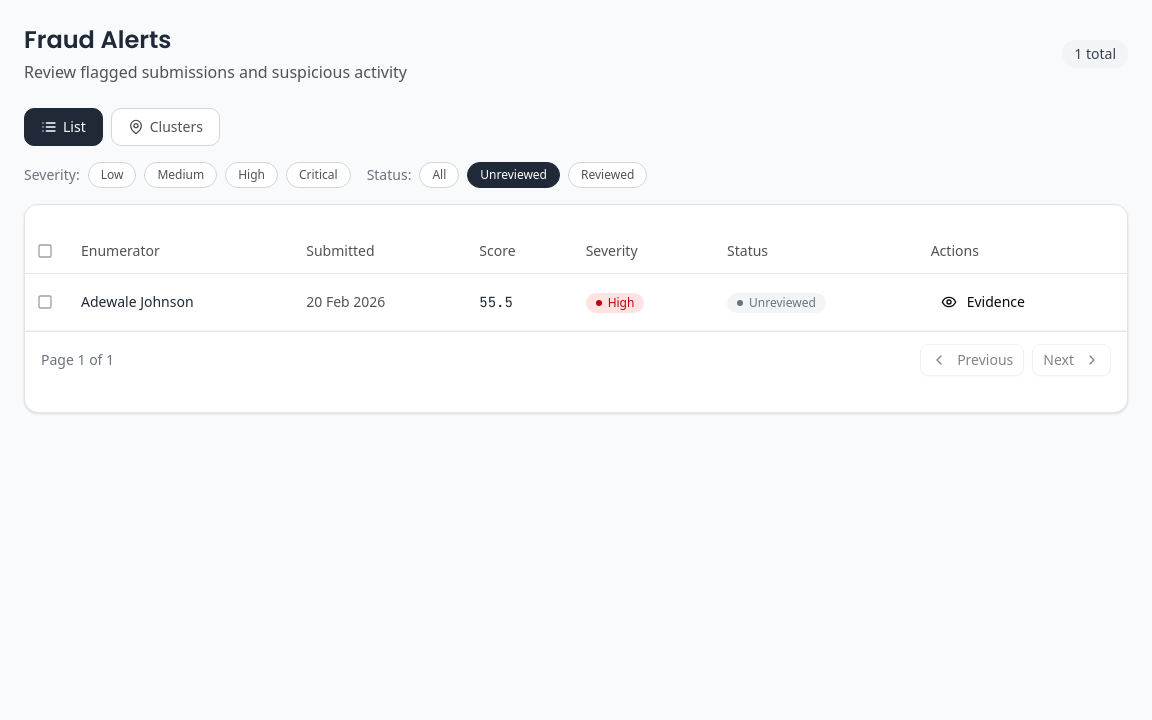
Test case: SupervisorFraudPage › AC4.4.7: Keyboard navigation › closes evidence panel when Escape is pressed (H1 fix)
This screenshot has width=1152, height=720.
Note: Open evidence panel
Click the button with aria-label "View evidence for Adewale Johnson" at {"x": 983, "y": 302}, box top-left (931, 286), bottom-right (1035, 318)
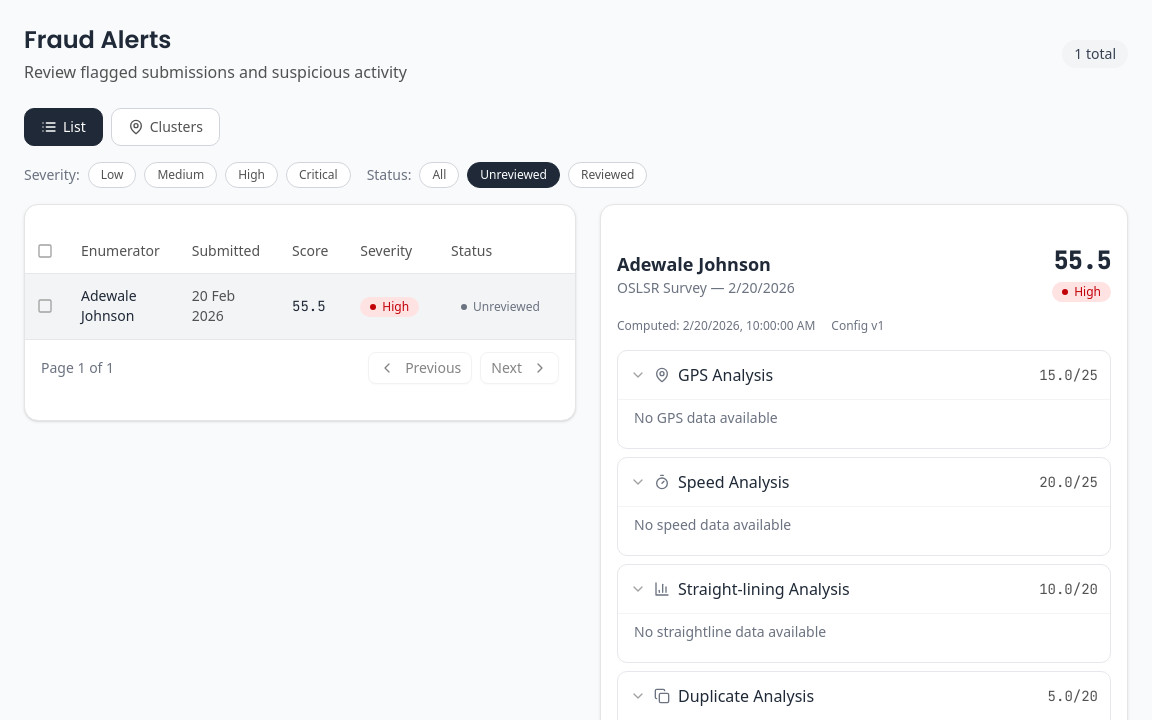
Result: the text "GPS Analysis" is shown at top-left (678, 363), bottom-right (773, 387)
Note: Press Escape
Press Escape
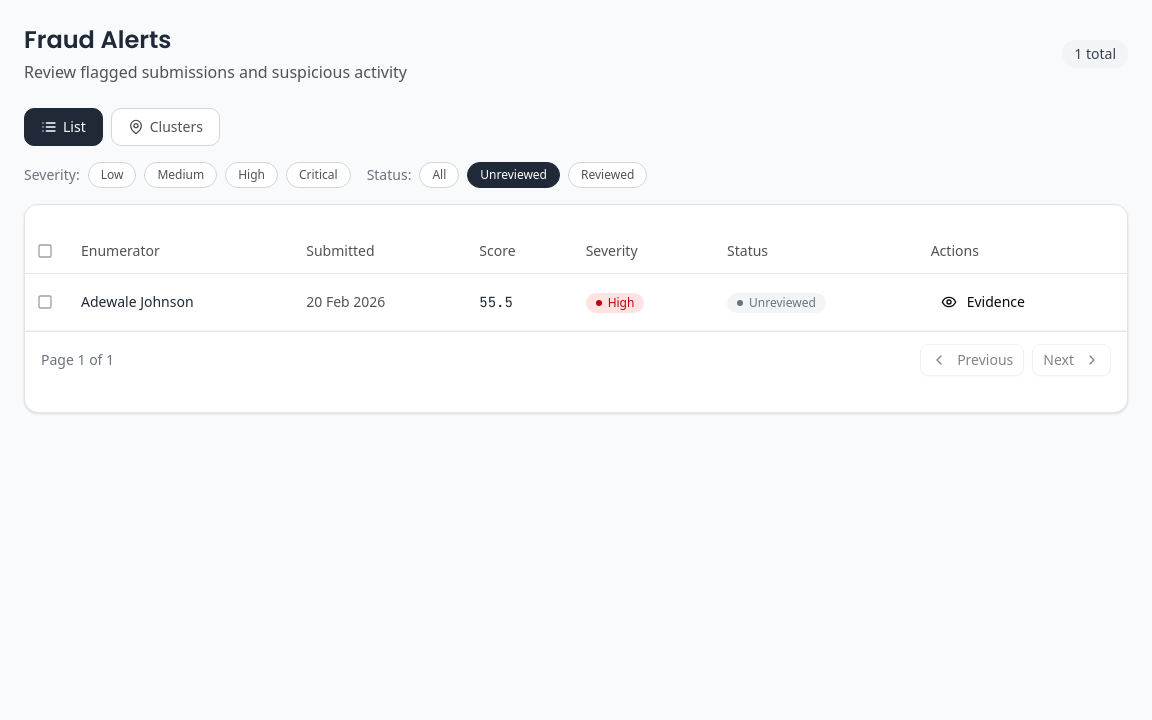
Result: the button "GPS Analysis" is gone
